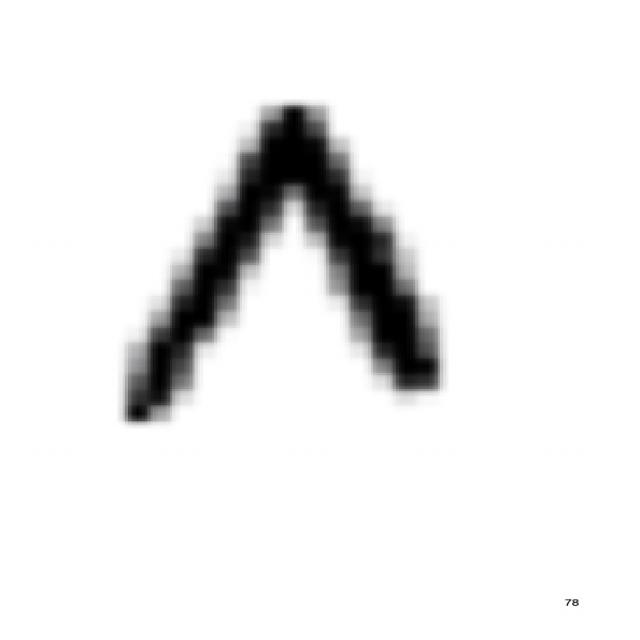8 -eight-: (105, 90, 461, 436)
